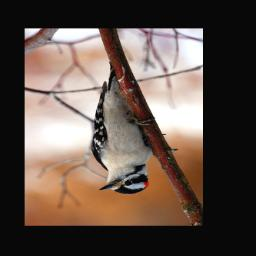Woodpecker: (92, 61, 156, 194)
